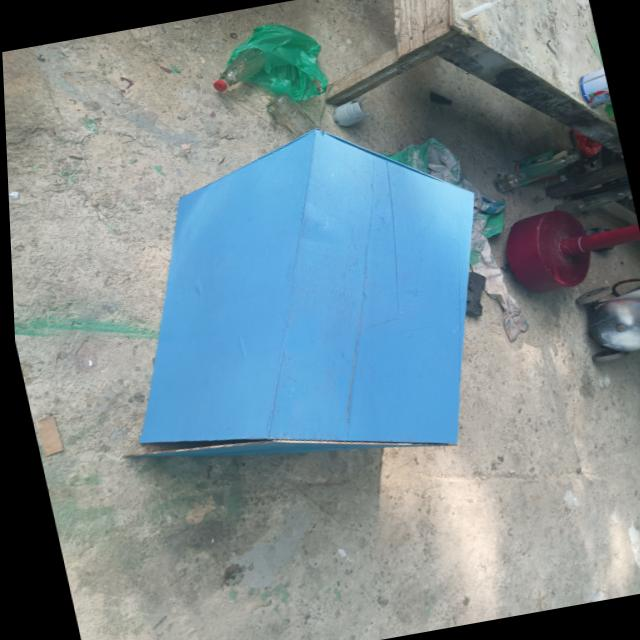blue_box: (65, 101, 534, 496)
